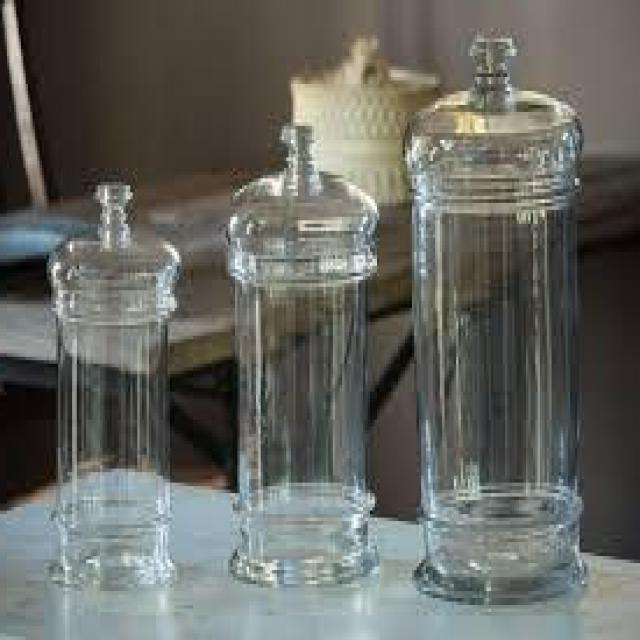glass: (400, 27, 589, 610)
